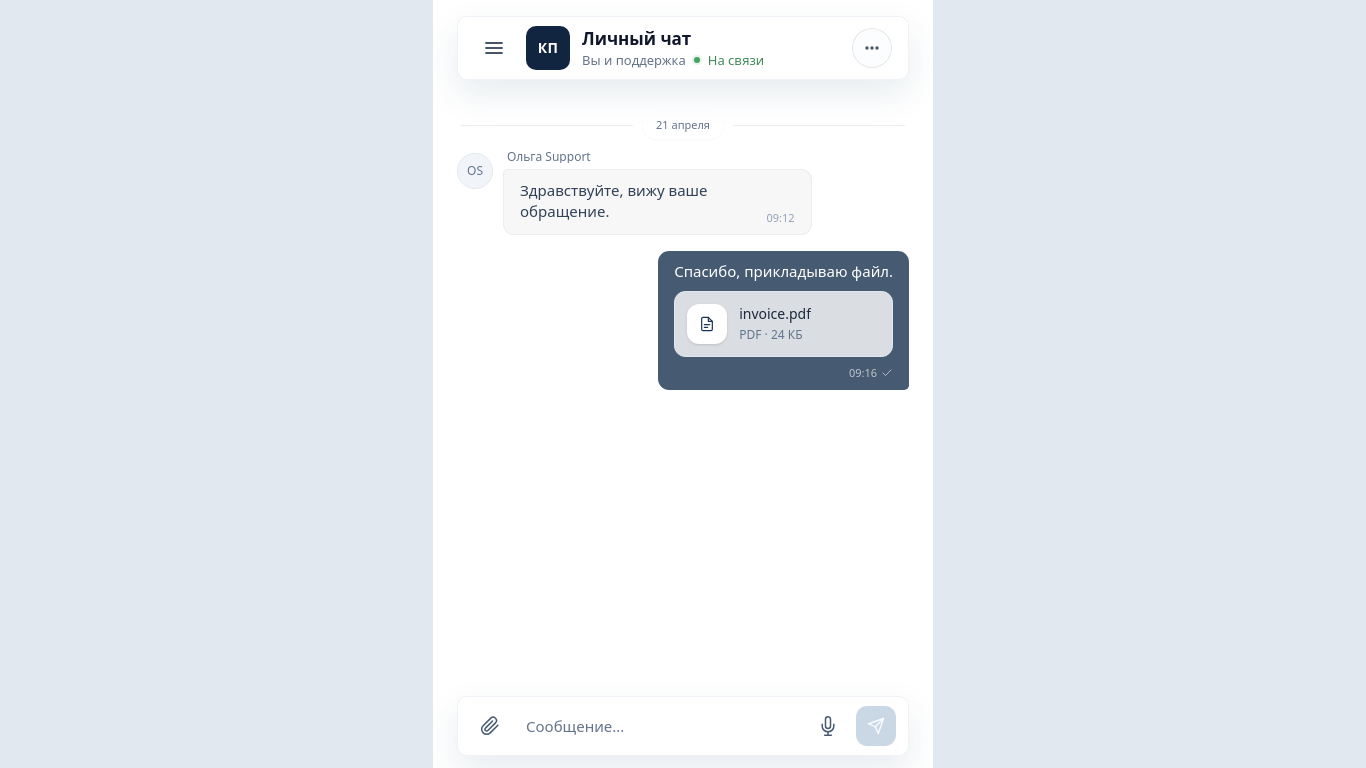
Test: ChatPage › opens chat info from the chat menu and returns to the transcript
Expected: the text "Здравствуйте, вижу ваше обращение." is shown, [520,180,712,221]
Click the button named "Открыть меню чата".
click(872, 48)  # box [852,28,892,68]
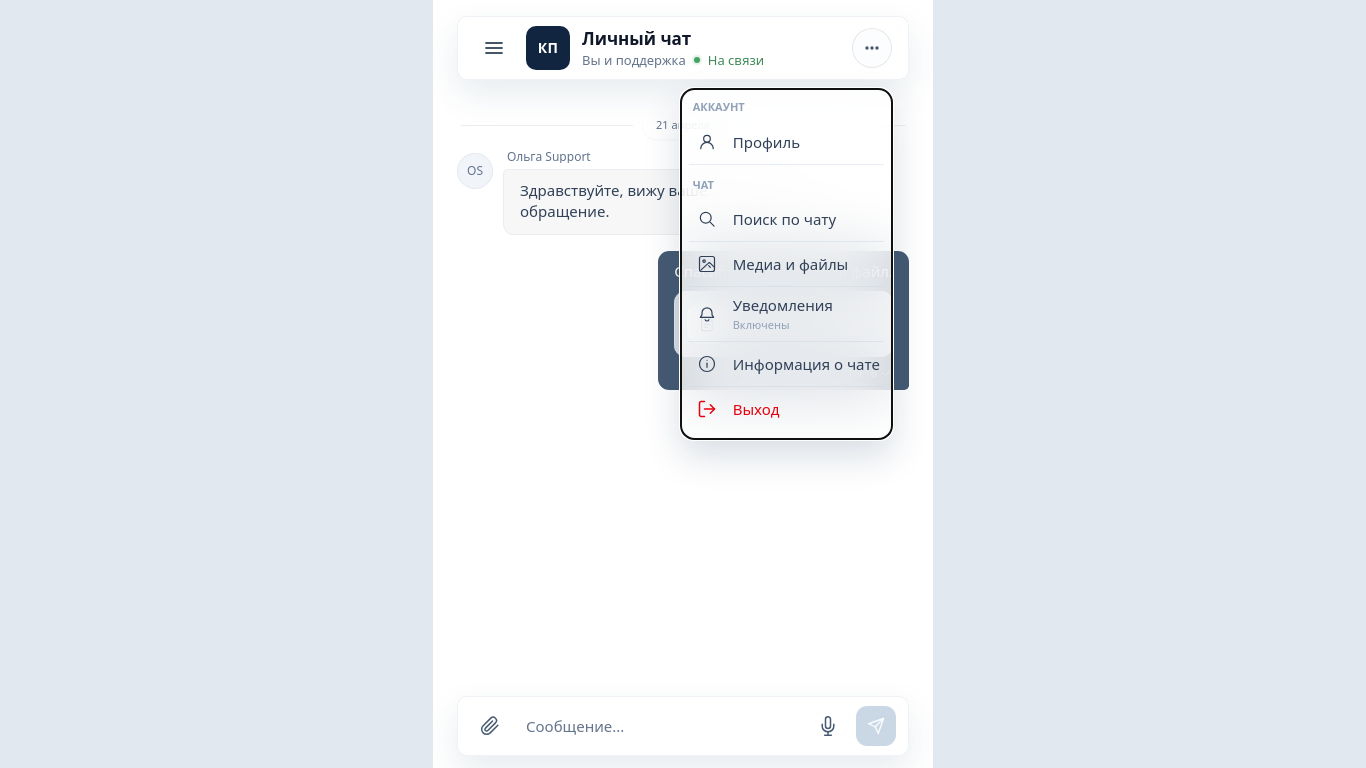
Click the menu item "Информация о чате".
click(786, 364)  # box [689,342,884,387]
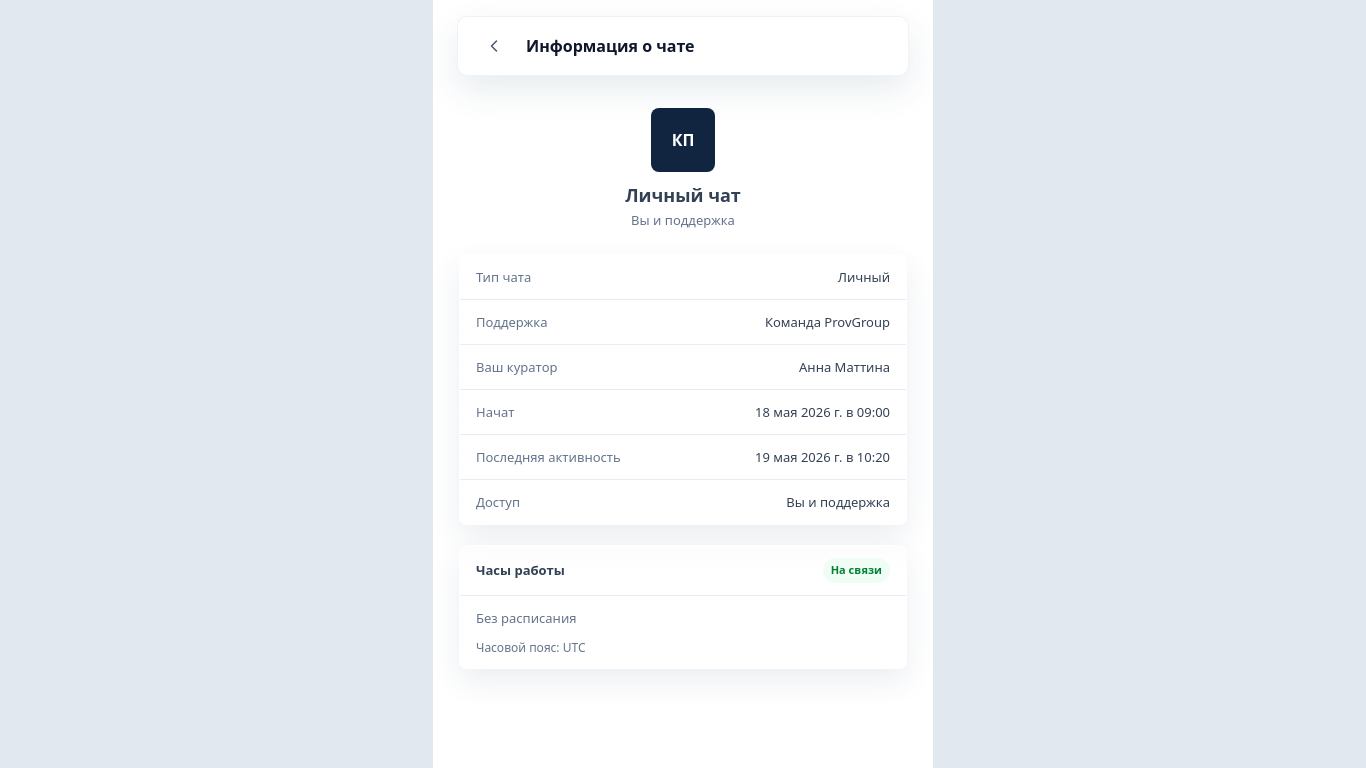
Now the heading "Информация о чате" is shown, box [526,35,694,57]
Now the text "Анна Маттина" is shown, box [799,357,890,377]
Click the button named "Вернуться к чату".
click(494, 46)  # box [474,26,514,66]
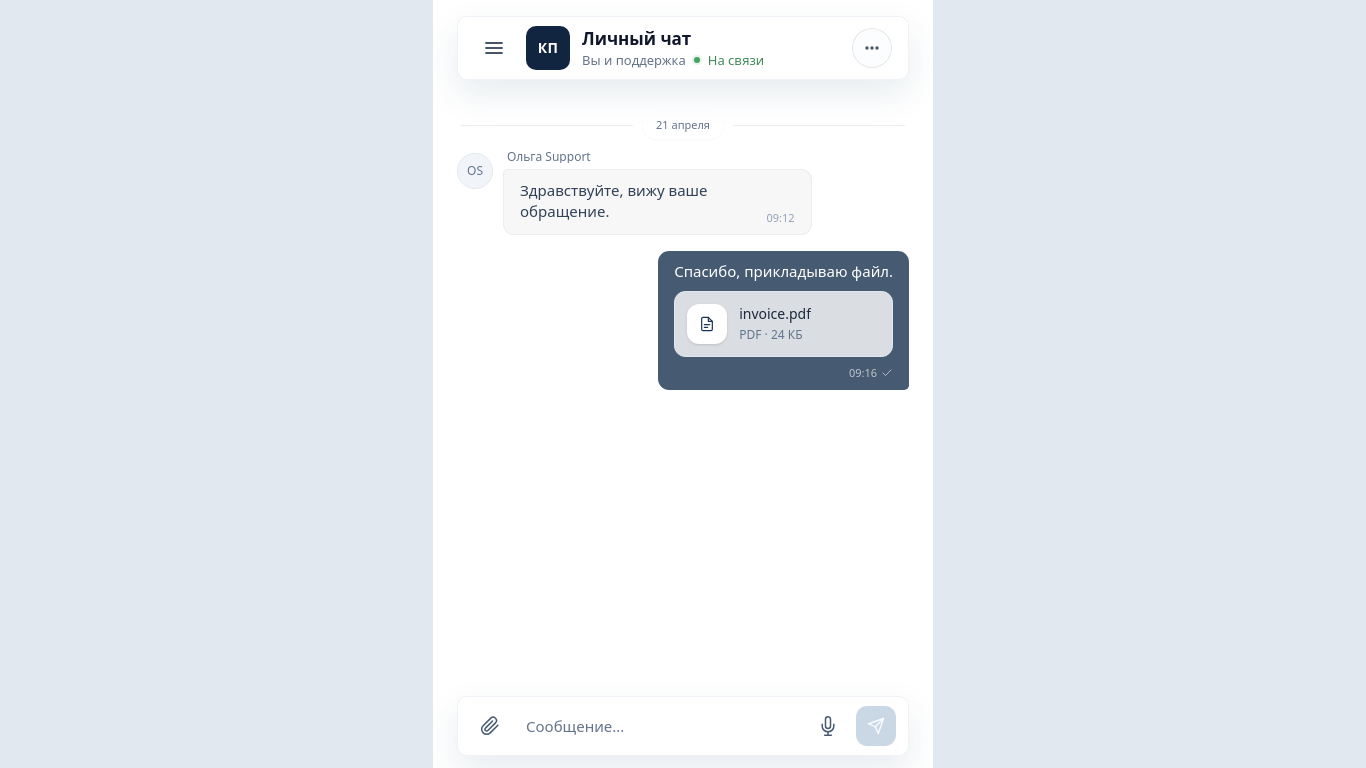
Expected: the text "Здравствуйте, вижу ваше обращение." is shown, [520,180,712,221]
Now the heading "Информация о чате" is gone
